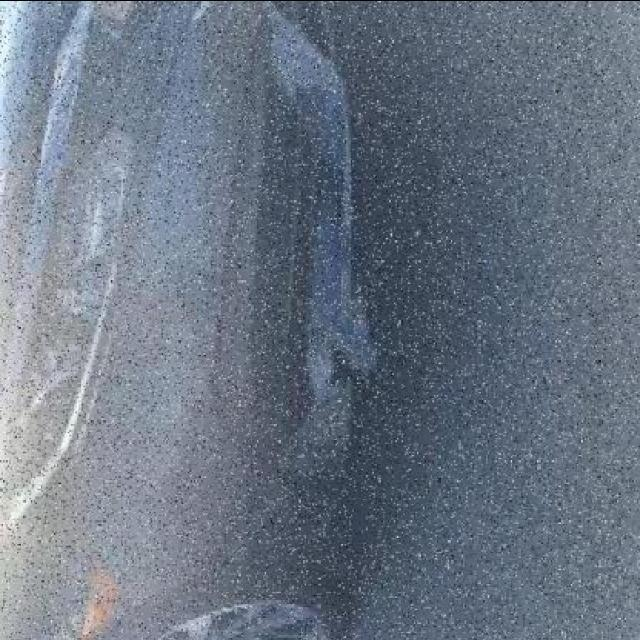front-bumper-dent: (114, 3, 391, 640)
